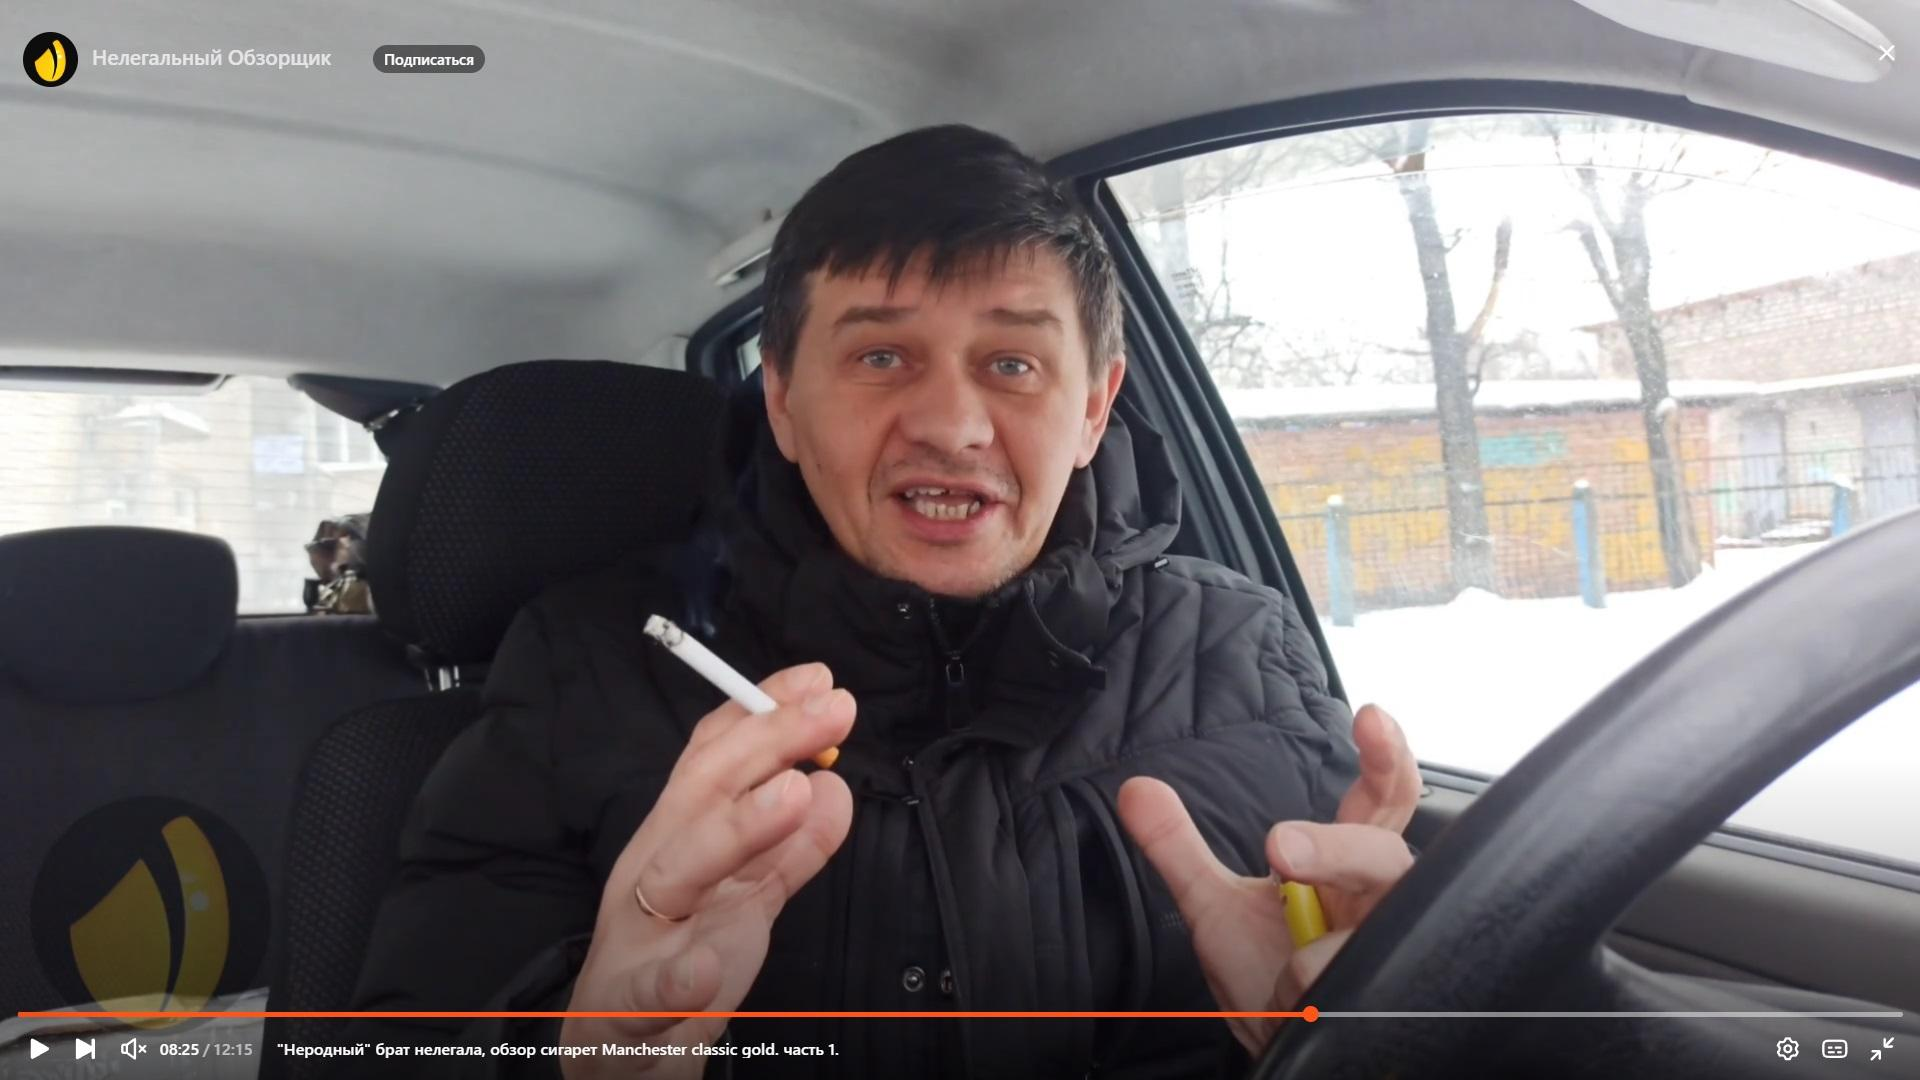cigarette: (642, 612, 840, 769)
